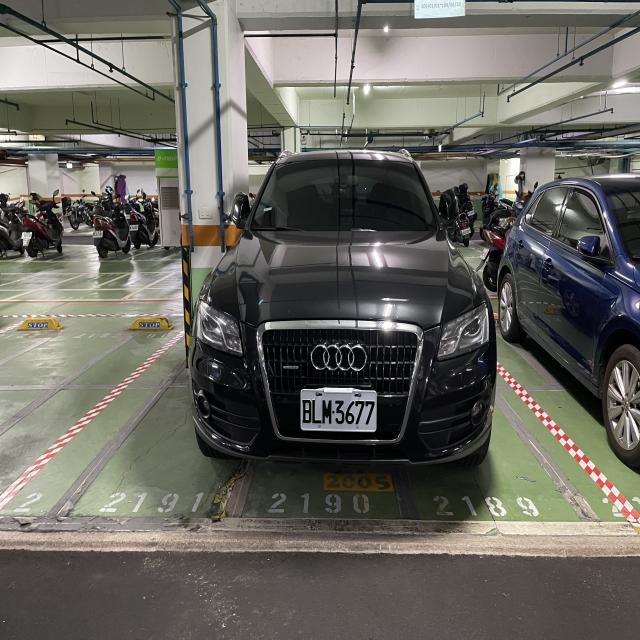license-plate: (298, 385, 378, 434)
